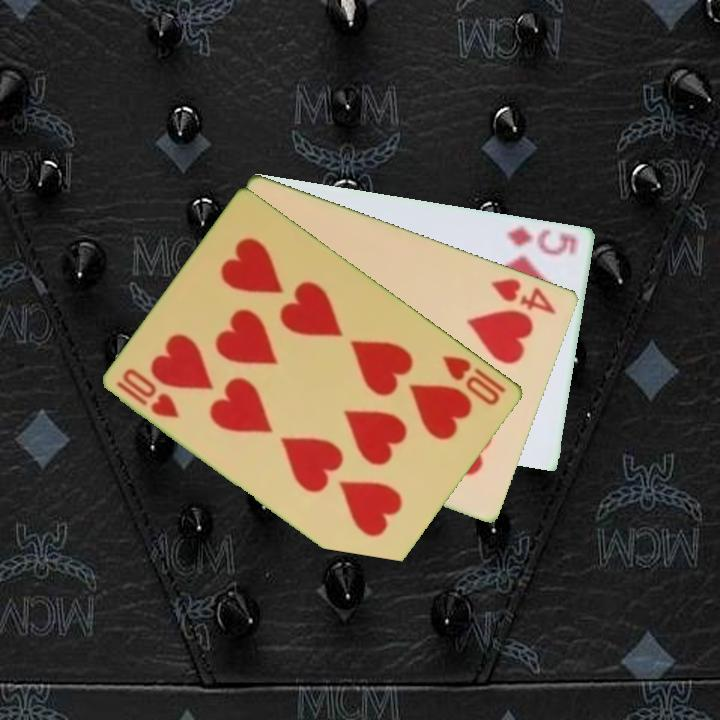10h: (439, 351, 509, 409), (113, 364, 183, 422)
4h: (487, 274, 560, 317)
5d: (504, 222, 580, 258)
